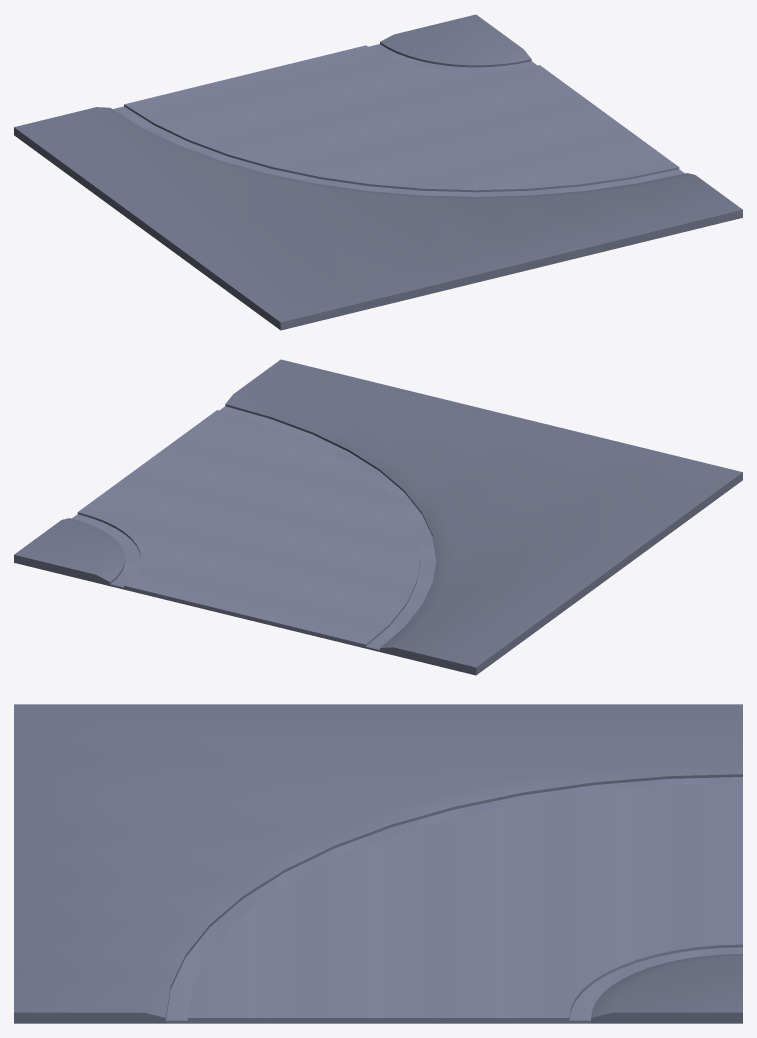
Rendered from roadBend.fbx.
The picture shows the model from 3 angles, top to bottom: view 1: azimuth 30°, elevation 25°; view 2: azimuth 150°, elevation 25°; view 3: azimuth 270°, elevation 25°; orthographic projection. The views are drawn at different scales.
Visible parts, largest first — view 1: roadBend; view 2: roadBend; view 3: roadBend.
Part boxes in pixels (box(x1,y1,x2,y2)): roadBend: box(14, 14, 742, 330); roadBend: box(14, 359, 742, 675); roadBend: box(14, 704, 742, 1023).
Bounding box in the file's own units: 3 × 3 × 0.05.
